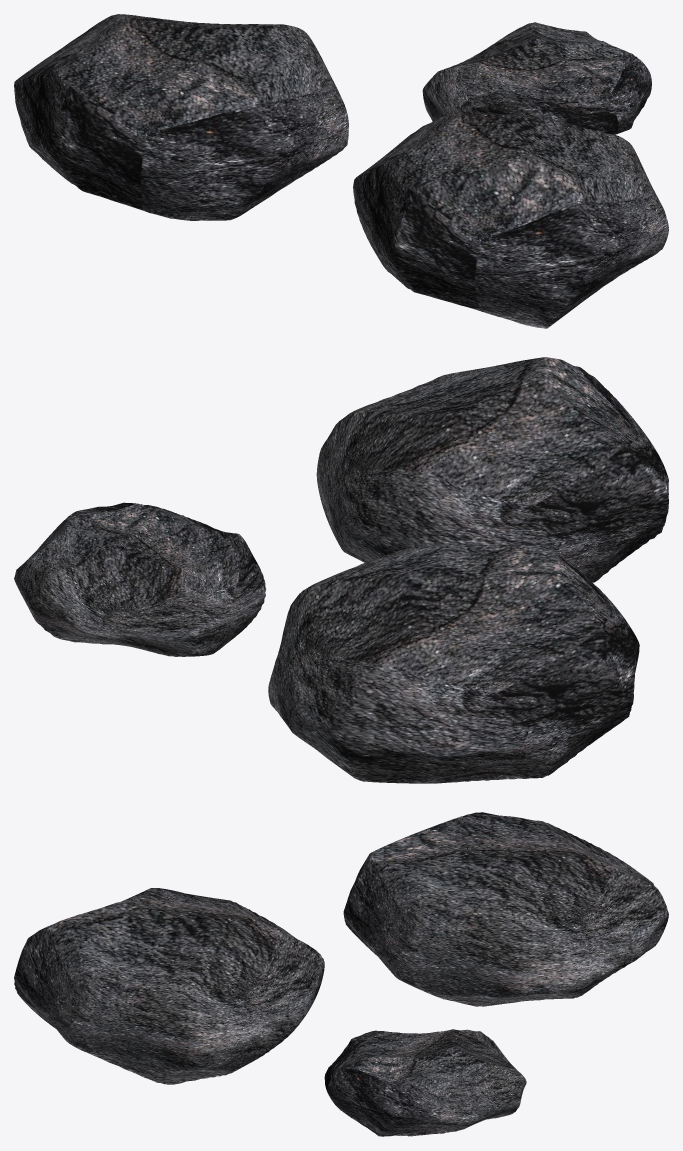
File: Pedras_Pequenas_Textured.fbx
3 renders of one model, top to bottom at view 1: azimuth 30°, elevation 25°; view 2: azimuth 150°, elevation 25°; view 3: azimuth 270°, elevation 25°, orthographic. The views are drawn at different scales.
Visible parts, largest first — view 1: Cube.001, Cube.002, Cube; view 2: Cube.001, Cube.002, Cube; view 3: Cube.001, Cube.002, Cube.
Boxes of the visible parts, x1,y1,x2,y2 form: Cube.001: [14, 14, 348, 220]; Cube.002: [353, 113, 668, 328]; Cube: [422, 22, 651, 134]; Cube.001: [268, 543, 639, 783]; Cube.002: [316, 357, 668, 582]; Cube: [14, 502, 266, 656]; Cube.001: [343, 812, 668, 1006]; Cube.002: [14, 888, 324, 1084]; Cube: [324, 1029, 526, 1136].
Size of the model in its own units: 187 by 53.14 by 210.
1 material, 1 textured.
